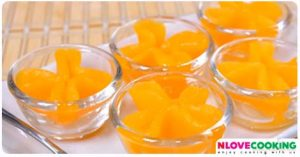tongyip: (16, 46, 112, 123), (125, 78, 226, 140), (220, 40, 297, 111), (124, 20, 205, 70)
